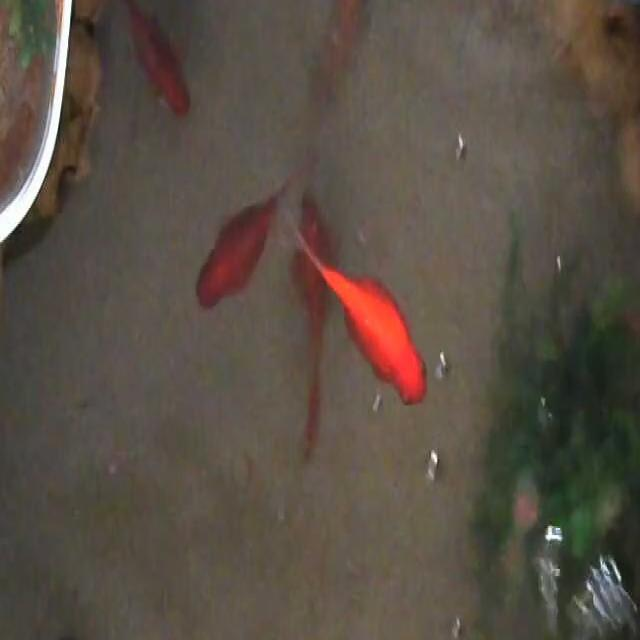fish: (289, 213, 427, 411), (194, 170, 300, 310), (293, 201, 336, 462), (98, 0, 190, 121), (310, 0, 372, 116)
